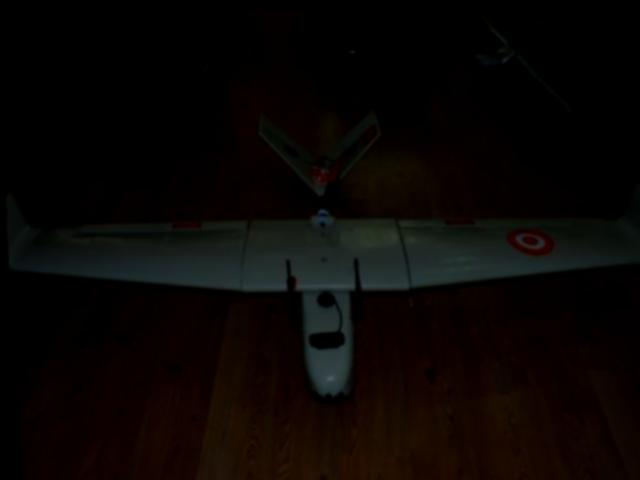iha: (2, 84, 640, 415)
